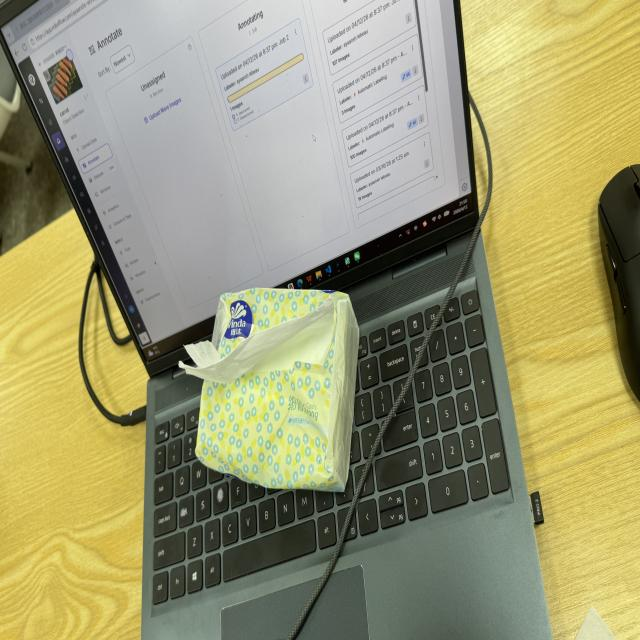tissue: (181, 289, 358, 491)
